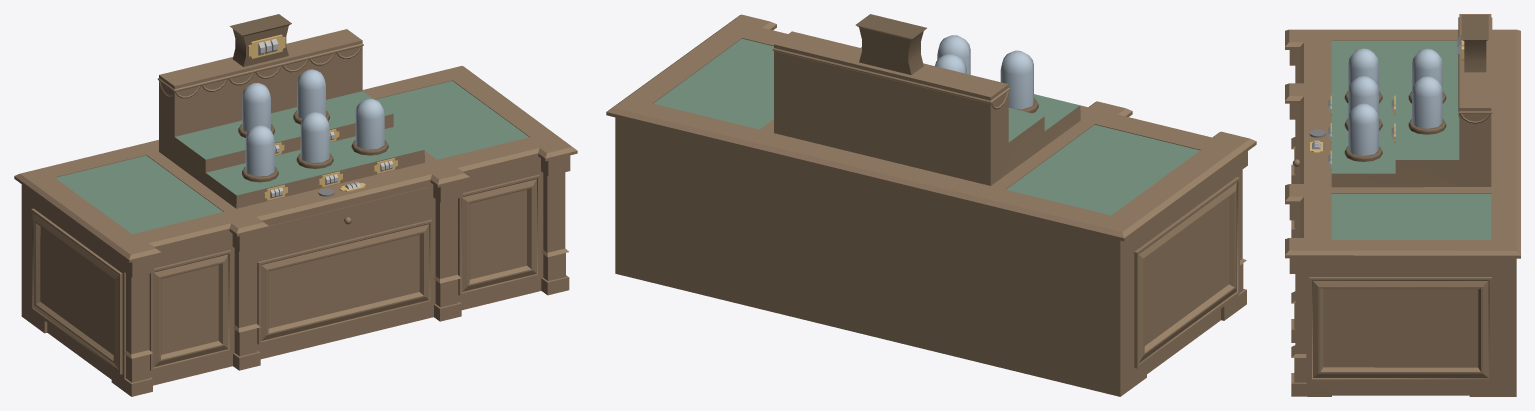
Rendered from shop.fbx.
3 renders of one model, left to right at view 1: azimuth 30°, elevation 25°; view 2: azimuth 150°, elevation 25°; view 3: azimuth 270°, elevation 25°, orthographic. The views are drawn at different scales.
Visible parts, largest first — view 1: shop, shop_storage; view 2: shop; view 3: shop.
Part boxes in pixels (bbox=[...]): shop: bbox=[14, 14, 577, 396]; shop_storage: bbox=[261, 187, 429, 251]; shop: bbox=[606, 14, 1256, 396]; shop: bbox=[1285, 14, 1520, 396].
Size of the model in its own units: 308 by 166 by 136.
